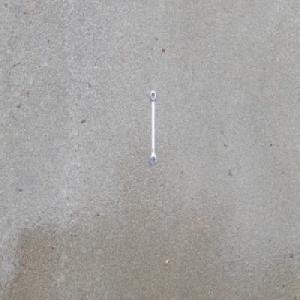Wrench: (149, 89, 157, 167)
